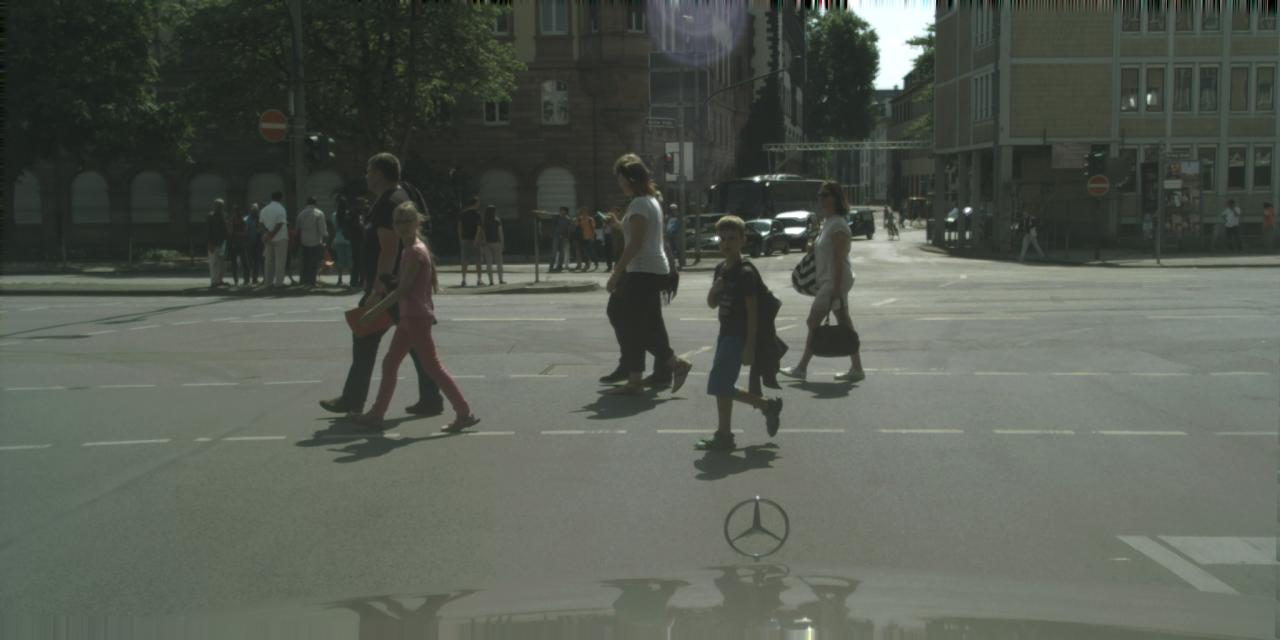ped: (329, 151, 436, 414), (599, 162, 695, 394), (361, 199, 456, 430), (694, 214, 788, 443), (584, 152, 677, 380), (783, 180, 865, 380), (256, 190, 295, 286), (292, 195, 329, 288), (455, 196, 491, 284), (328, 198, 363, 283), (202, 198, 236, 284), (342, 198, 371, 292), (245, 202, 278, 282), (221, 205, 253, 285), (477, 205, 509, 283), (237, 203, 268, 281), (600, 205, 628, 271), (269, 215, 296, 283), (546, 206, 572, 272), (662, 202, 687, 266), (552, 205, 577, 266), (575, 207, 599, 269), (568, 209, 592, 269), (1222, 200, 1242, 252), (1018, 210, 1038, 260), (1256, 202, 1276, 252), (896, 203, 906, 228), (911, 203, 920, 225), (882, 204, 890, 225), (888, 212, 896, 233), (865, 195, 869, 205)
